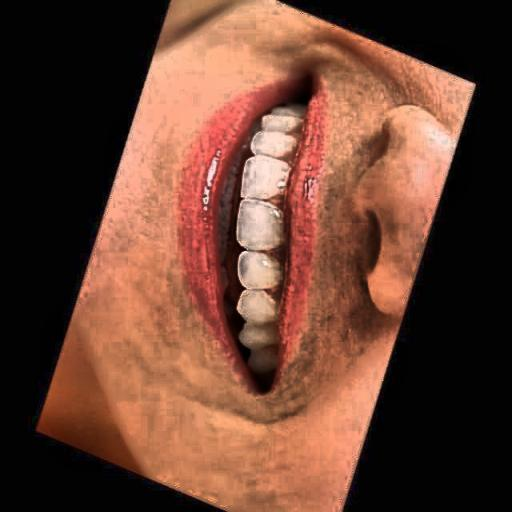Healthy: (190, 76, 332, 379)
